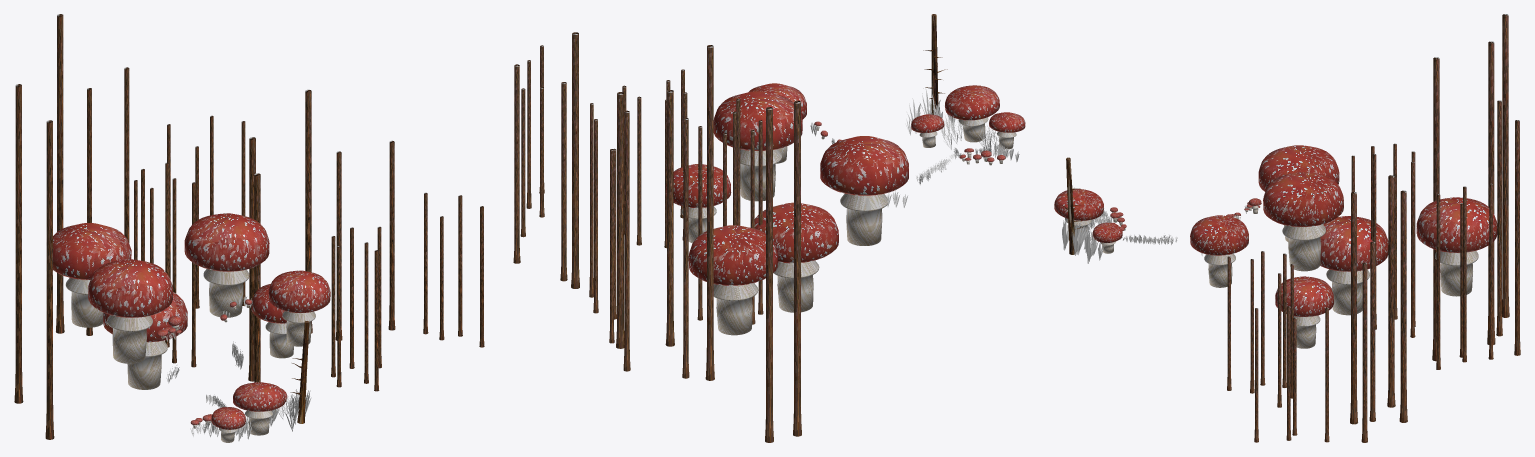
The model's file is moreBackground.glb.
The picture shows the model from 3 angles, left to right: view 1: azimuth 30°, elevation 25°; view 2: azimuth 150°, elevation 25°; view 3: azimuth 270°, elevation 25°; orthographic projection. The views are drawn at different scales.
Visible parts, largest first — view 1: TallTrees.002, TallTrees.001, Toadstool.033, Toadstool.032, Toadstool.043, Toadstool.031, Toadstool.044, Toadstool.027, grass.003, Toadstool.042, Toadstool.028, deadtree; view 2: TallTrees.002, TallTrees.001, Toadstool.033, Toadstool.043, Toadstool.044, Toadstool.032, Toadstool.027, Toadstool.042, grass.003, Toadstool.028, Toadstool.031, Toadstool.029 (+1 smaller); view 3: TallTrees.002, TallTrees.001, Toadstool.032, Toadstool.043, Toadstool.044, Toadstool.031, Toadstool.042, Toadstool.033, grass.003, Toadstool.027, Toadstool.029, deadtree.
Part boxes in pixels (box(x1,y1,x2,y2)): TallTrees.002: box(14, 14, 245, 439); TallTrees.001: box(248, 89, 484, 391); Toadstool.033: box(88, 259, 172, 363); Toadstool.032: box(184, 213, 269, 317); Toadstool.043: box(53, 223, 131, 327); Toadstool.031: box(268, 270, 330, 346); Toadstool.044: box(103, 292, 187, 389); Toadstool.027: box(233, 382, 284, 435); grass.003: box(165, 295, 311, 441); Toadstool.042: box(251, 284, 293, 358); Toadstool.028: box(211, 407, 245, 442); deadtree: box(290, 321, 309, 423); TallTrees.002: box(589, 45, 801, 442); TallTrees.001: box(513, 32, 687, 348); Toadstool.033: box(820, 136, 908, 245); Toadstool.043: box(688, 225, 777, 335); Toadstool.044: box(754, 202, 838, 312); Toadstool.032: box(713, 91, 802, 201); Toadstool.027: box(945, 85, 999, 142); Toadstool.042: box(666, 164, 731, 243); grass.003: box(810, 88, 1019, 207); Toadstool.028: box(989, 112, 1025, 149); Toadstool.031: box(748, 83, 806, 163); Toadstool.029: box(911, 114, 944, 147); TallTrees.002: box(1351, 14, 1520, 369); TallTrees.001: box(1227, 175, 1407, 442); Toadstool.032: box(1263, 172, 1343, 271); Toadstool.043: box(1416, 197, 1497, 296); Toadstool.044: box(1320, 216, 1388, 315); Toadstool.031: box(1190, 215, 1248, 287); Toadstool.042: box(1275, 276, 1333, 348); Toadstool.033: box(1258, 145, 1339, 241); grass.003: box(1062, 206, 1247, 263); Toadstool.027: box(1054, 189, 1103, 235); Toadstool.029: box(1092, 222, 1122, 253); deadtree: box(1062, 157, 1082, 254).
Bounding box in the file's own units: 65.07 × 63.74 × 73.66.
4 materials, 3 textured.
